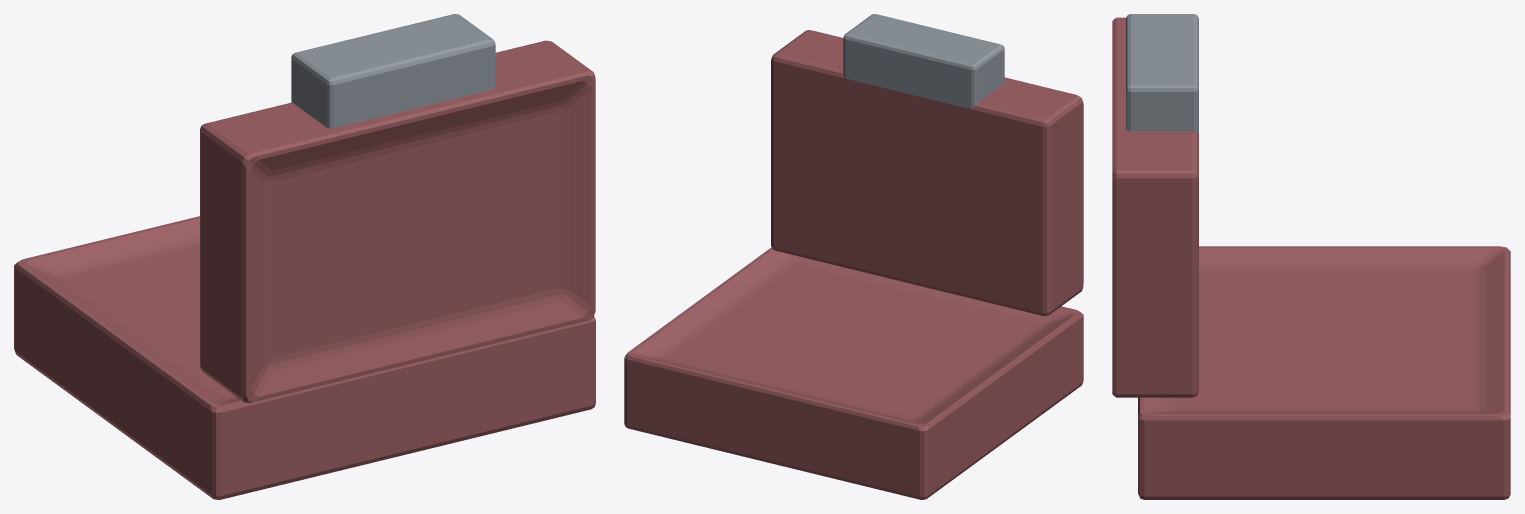
Rendered from seat_passenger.glb.
3 renders of one model, left to right at view 1: azimuth 30°, elevation 25°; view 2: azimuth 150°, elevation 25°; view 3: azimuth 270°, elevation 25°, orthographic. The views are drawn at different scales.
Visible parts, largest first — view 1: seat_passenger; view 2: seat_passenger; view 3: seat_passenger.
Part boxes in pixels (box(x1,y1,x2,y2)): seat_passenger: box(14, 14, 595, 499); seat_passenger: box(624, 14, 1083, 499); seat_passenger: box(1112, 14, 1510, 499).
Bounding box in the file's own units: 1 × 1 × 0.9841.
